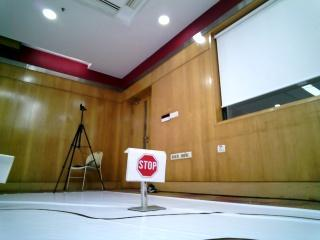stop: (131, 141, 168, 176)
